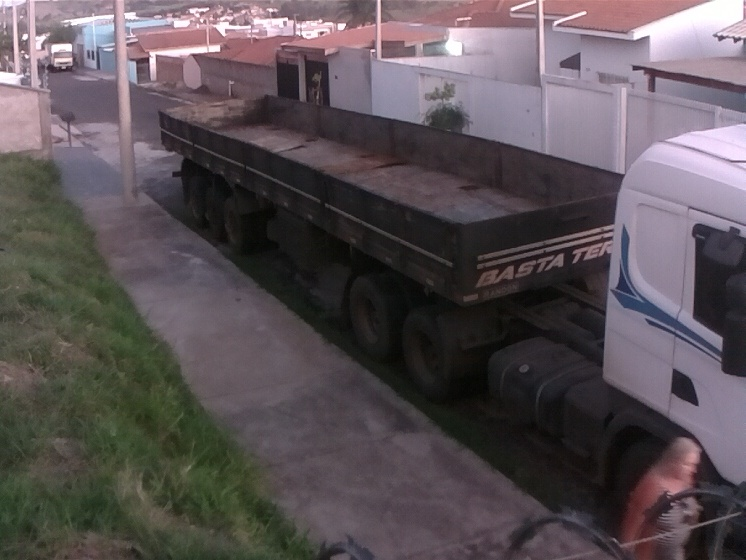person: (613, 431, 705, 560)
